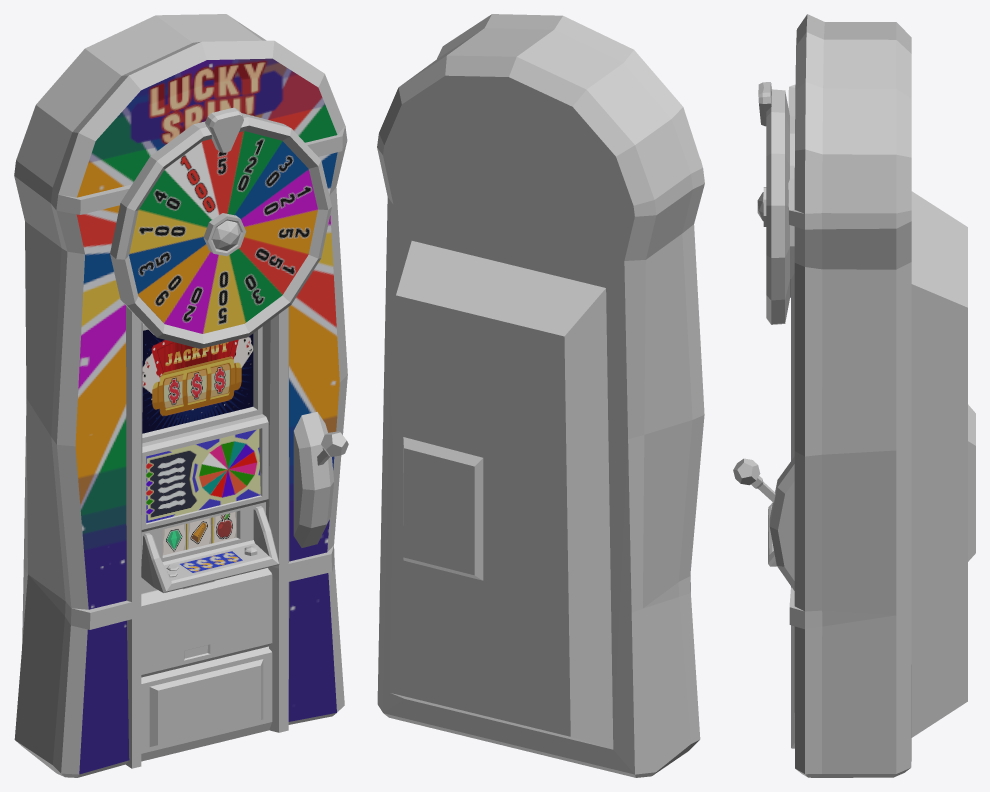
File: SM_Prop_Fortune_Wheel_01.fbx
3 views of the same model, side by side, from view 1: azimuth 30°, elevation 25°; view 2: azimuth 150°, elevation 25°; view 3: azimuth 270°, elevation 25° (orthographic). The views are drawn at different scales.
Parts seen in each view (by area): view 1: SM_Prop_Fortune_Wheel_01; view 2: SM_Prop_Fortune_Wheel_01; view 3: SM_Prop_Fortune_Wheel_01.
Boxes of the visible parts, x1=… form: SM_Prop_Fortune_Wheel_01: x1=14, y1=14, x2=348, y2=777; SM_Prop_Fortune_Wheel_01: x1=377, y1=14, x2=704, y2=777; SM_Prop_Fortune_Wheel_01: x1=733, y1=14, x2=975, y2=777.
Size of the model in its own units: 126 by 293 by 94.57.
